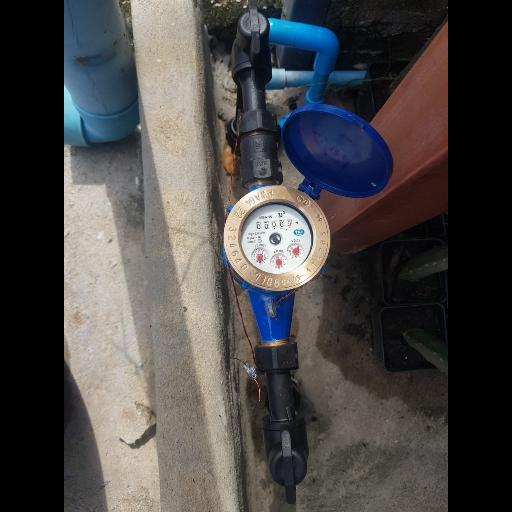0: (256, 221, 262, 231), (263, 221, 269, 230), (272, 221, 277, 230)
6: (279, 220, 285, 229)
9: (287, 219, 293, 229)
border_water_meter_number: (255, 217, 294, 231)
